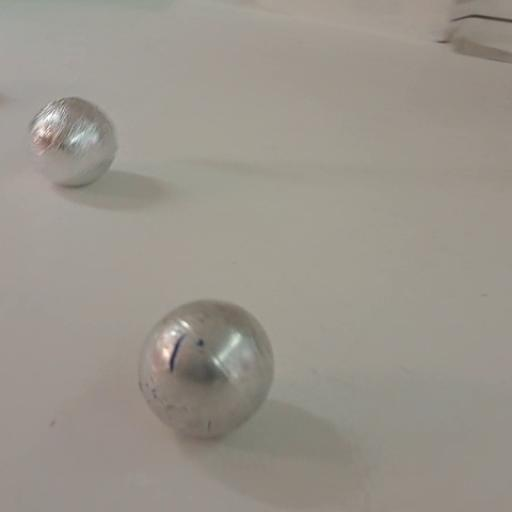alive: (137, 295, 281, 441), (26, 96, 120, 188)
